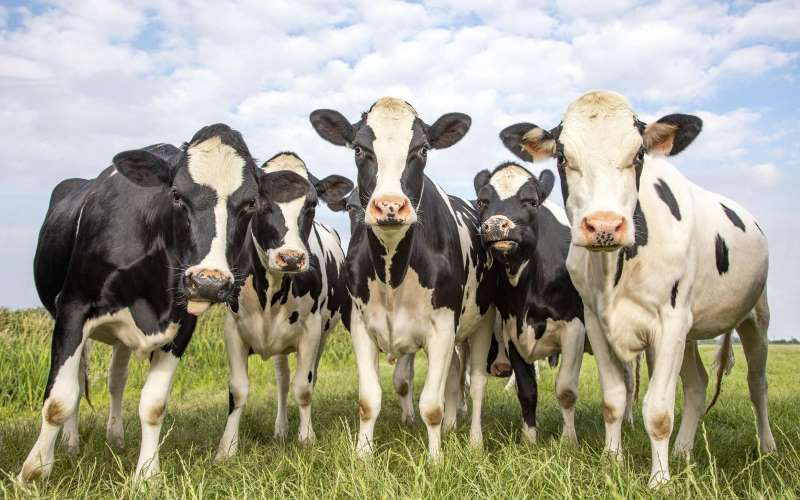cow: (136, 126, 278, 319), (542, 98, 705, 259), (328, 96, 455, 229), (463, 149, 555, 270), (257, 153, 337, 275)
